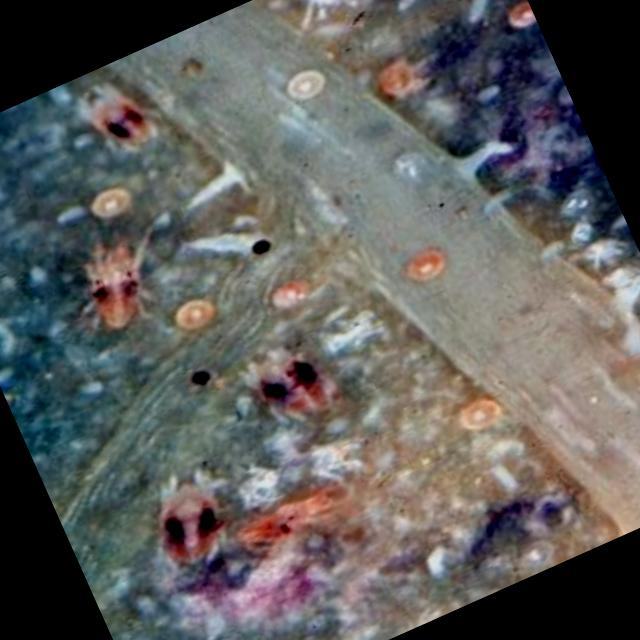spider mite: (112, 412, 274, 590), (32, 196, 183, 354), (40, 52, 197, 200), (209, 312, 354, 454)
